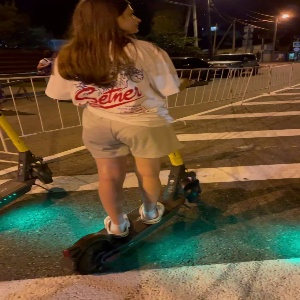human on a scooter: (44, 1, 209, 275)
